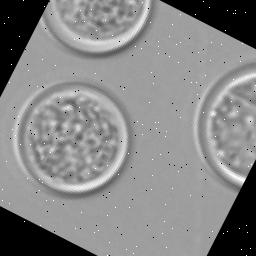picoshell: (12, 84, 128, 197), (192, 64, 256, 189), (45, 0, 150, 54)
